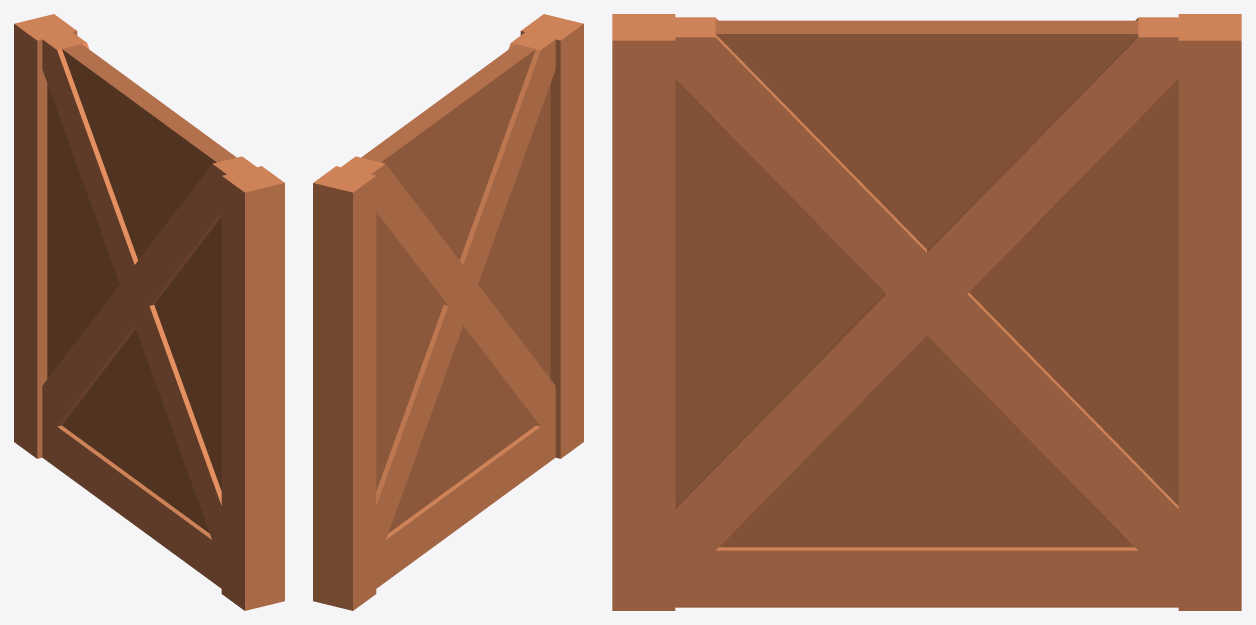
The model's file is wallWoodDetailCross.obj.
3 renders of one model, left to right at view 1: azimuth 30°, elevation 25°; view 2: azimuth 150°, elevation 25°; view 3: azimuth 270°, elevation 25°, orthographic. The views are drawn at different scales.
Visible parts, largest first — view 1: wallWoodDetailCross; view 2: wallWoodDetailCross; view 3: wallWoodDetailCross.
Part boxes in pixels (left/top/right/bottom): wallWoodDetailCross: left=14, top=14, right=284, bottom=610; wallWoodDetailCross: left=313, top=14, right=583, bottom=610; wallWoodDetailCross: left=612, top=14, right=1241, bottom=610.
Bounding box in the file's own units: 0.1 × 1 × 1.
